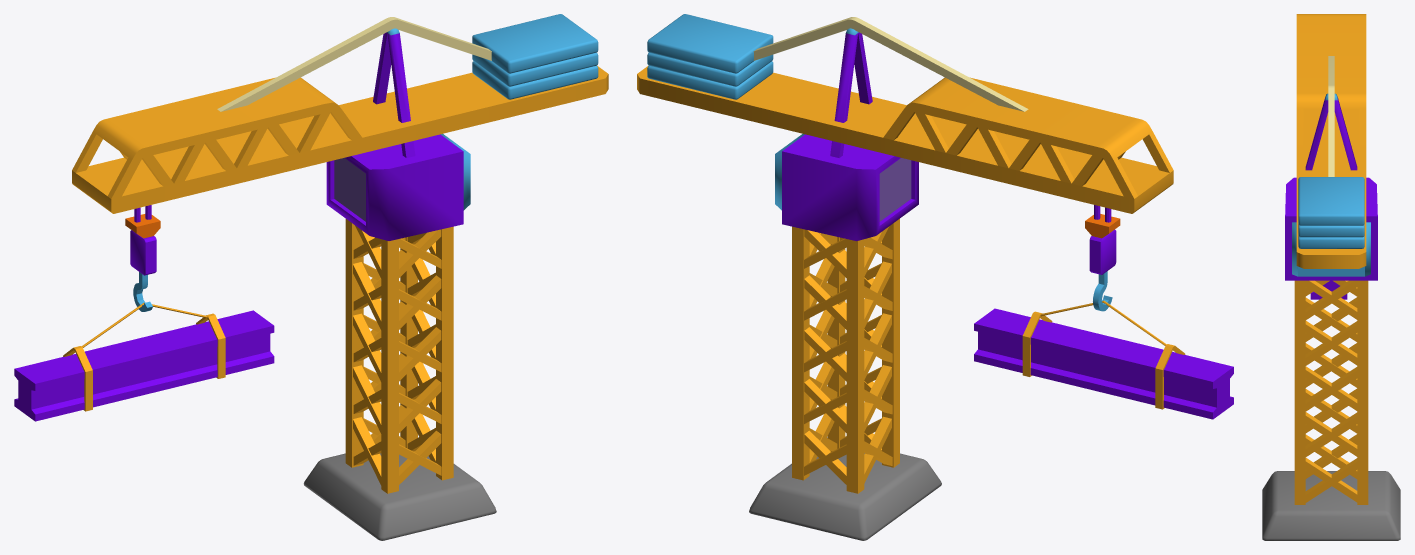
The model's file is Crane_01.fbx.
3 renders of one model, left to right at view 1: azimuth 30°, elevation 25°; view 2: azimuth 150°, elevation 25°; view 3: azimuth 270°, elevation 25°, orthographic. The views are drawn at different scales.
Parts seen in each view (by area): view 1: Obstacle_Crane_01, Obstacle_Crain_01_Hang; view 2: Obstacle_Crane_01, Obstacle_Crain_01_Hang; view 3: Obstacle_Crane_01, Obstacle_Crain_01_Hang.
Boxes of the visible parts, left/top/right/bottom form: Obstacle_Crane_01: left=72, top=14, right=608, bottom=540; Obstacle_Crain_01_Hang: left=14, top=205, right=274, bottom=421; Obstacle_Crane_01: left=637, top=14, right=1173, bottom=540; Obstacle_Crain_01_Hang: left=974, top=205, right=1233, bottom=419; Obstacle_Crane_01: left=1262, top=14, right=1400, bottom=540; Obstacle_Crain_01_Hang: left=1310, top=280, right=1347, bottom=299.
Bounding box in the file's own units: 948 × 769 × 226.
1 material, 1 textured.
